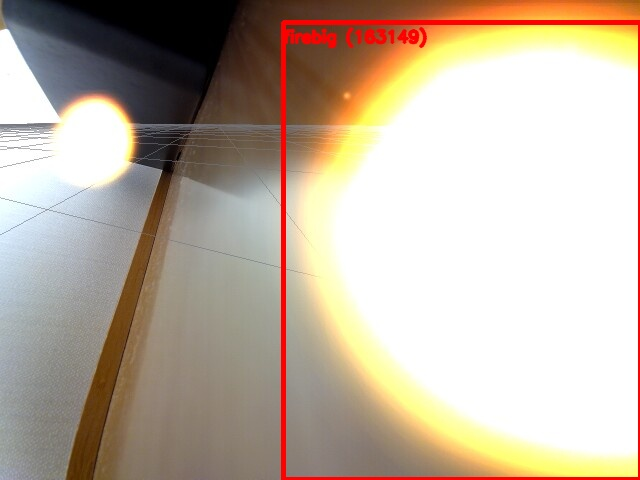firebig: (283, 22, 640, 479)
